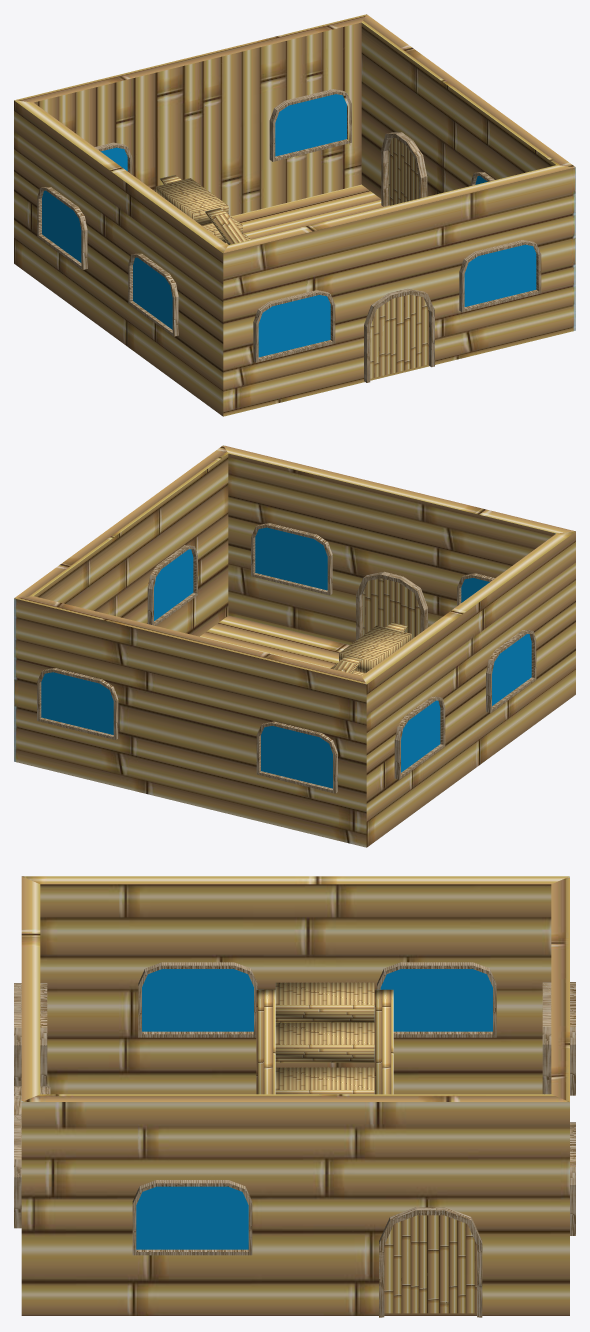
The model's file is CajaCasa 3.3 Interior 1.fbx.
3 renders of one model, top to bottom at view 1: azimuth 30°, elevation 25°; view 2: azimuth 150°, elevation 25°; view 3: azimuth 270°, elevation 25°, orthographic. The views are drawn at different scales.
Visible parts, largest first — view 1: Cube.011; view 2: Cube.011; view 3: Cube.011.
Boxes of the visible parts, <box> form: Cube.011: <box>14,14,575,416</box>; Cube.011: <box>14,445,575,847</box>; Cube.011: <box>14,876,575,1317</box>.
Bounding box in the file's own units: 605 × 272 × 620.
20 materials, 13 textured.
